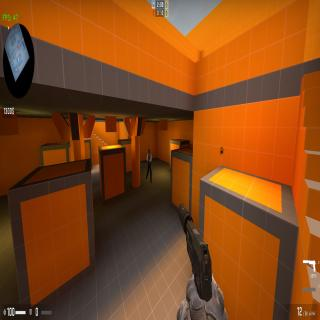T-Body: (146, 148, 152, 184)
T-Head: (148, 149, 150, 155)
